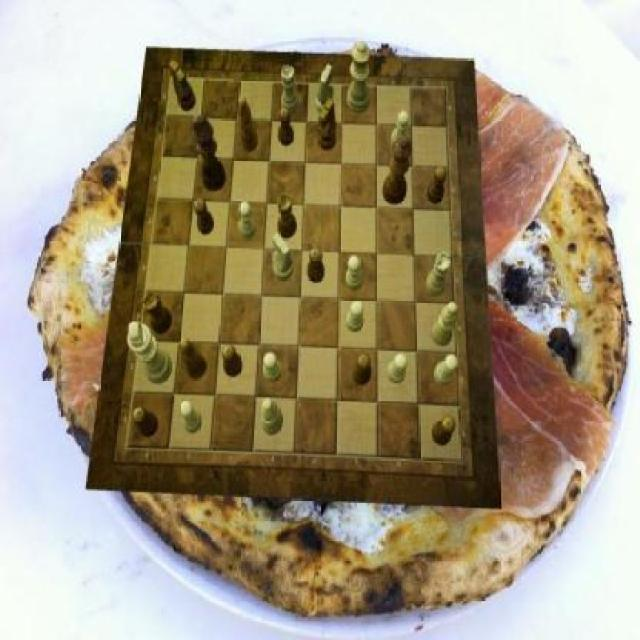bishop: (180, 337, 208, 379), (238, 95, 258, 153)
black-bishop: (192, 114, 226, 191)
black-king: (169, 61, 196, 112), (318, 99, 338, 152)
black-knight: (132, 408, 158, 438), (428, 166, 448, 204), (432, 416, 456, 446), (194, 198, 214, 234), (223, 345, 243, 377), (278, 108, 294, 146), (354, 354, 371, 388), (308, 248, 325, 282)
black-pawn: (383, 136, 413, 204)
black-queen: (143, 291, 172, 333), (278, 192, 298, 238)
black-rook: (432, 301, 458, 347), (261, 399, 284, 436)
white-bishop: (128, 321, 172, 384)
white-king: (274, 234, 294, 281), (315, 65, 333, 117)
white-knight: (391, 111, 410, 151), (180, 400, 202, 434), (436, 354, 458, 386), (240, 202, 257, 240), (388, 354, 408, 384), (346, 255, 363, 290), (263, 352, 282, 383), (346, 300, 364, 332)
white-pawn: (348, 40, 370, 114)
white-queen: (426, 252, 451, 296), (282, 66, 300, 116)
